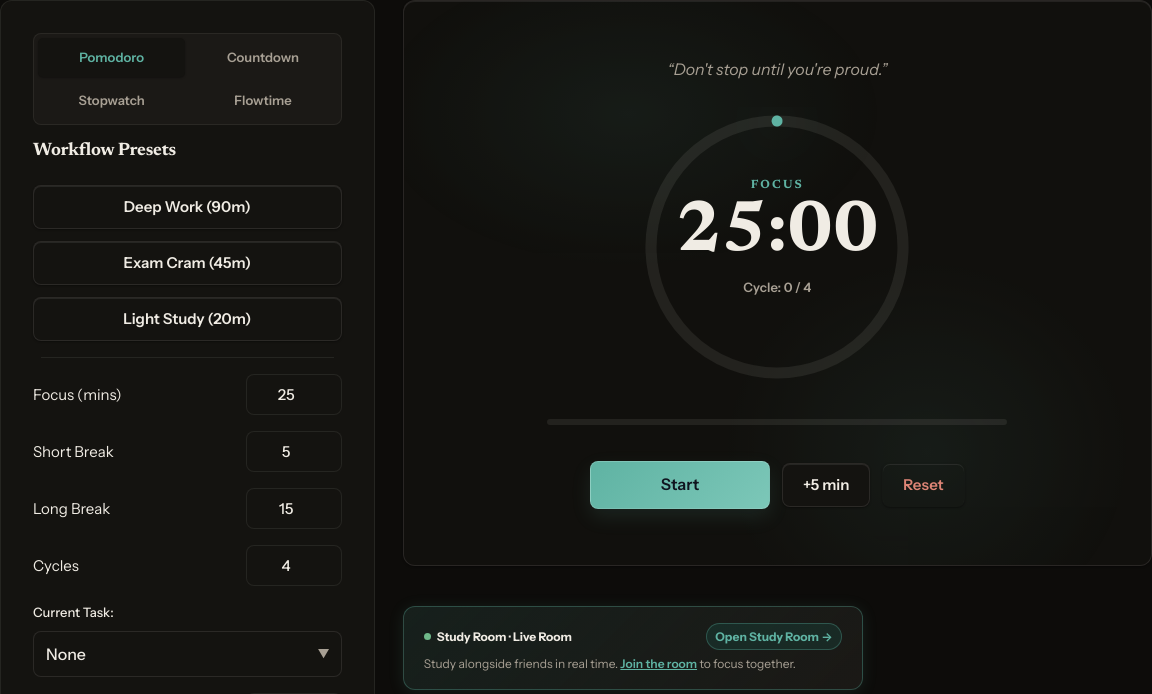
Test: TimerView › offers Take a break only in flowtime's focus phase
Expected: the button "Take a break" is not shown
Click the radio button labelled "Flowtime". click: (263, 100)
box: [234,92,292,108]
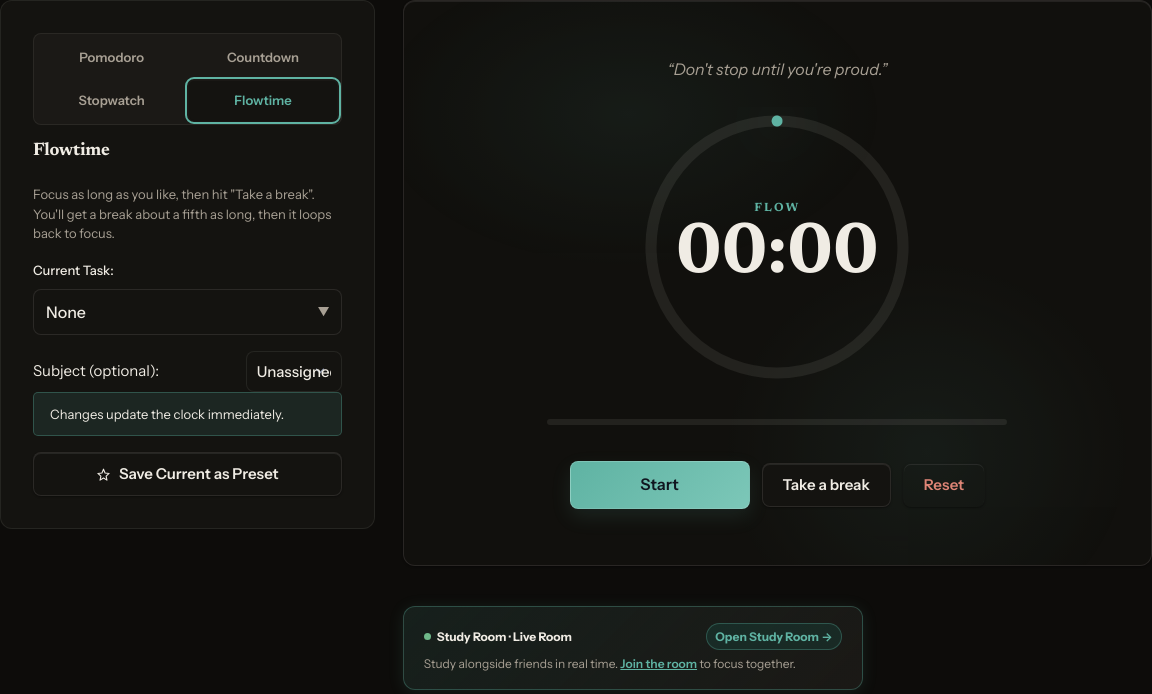
Result: the button "Take a break" is shown at [762,463,891,507]
